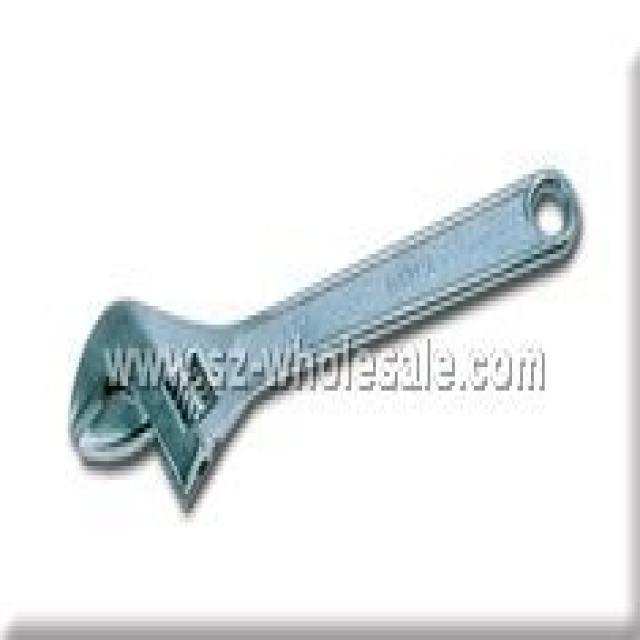wrench: (69, 158, 592, 508)
